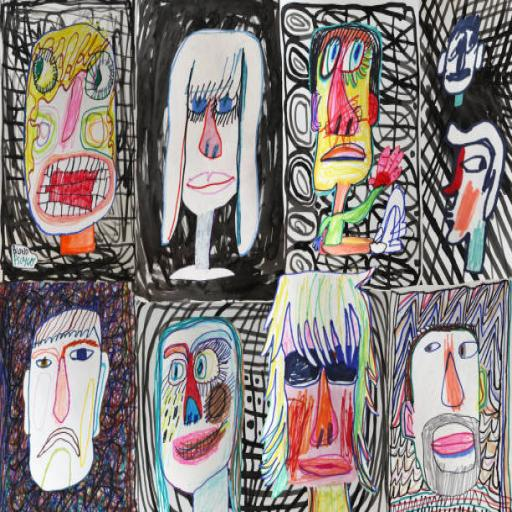person: (148, 6, 271, 288), (10, 9, 130, 291), (297, 0, 412, 266), (256, 269, 376, 510), (16, 278, 119, 498), (392, 296, 496, 502), (434, 2, 504, 296), (145, 305, 245, 509)
